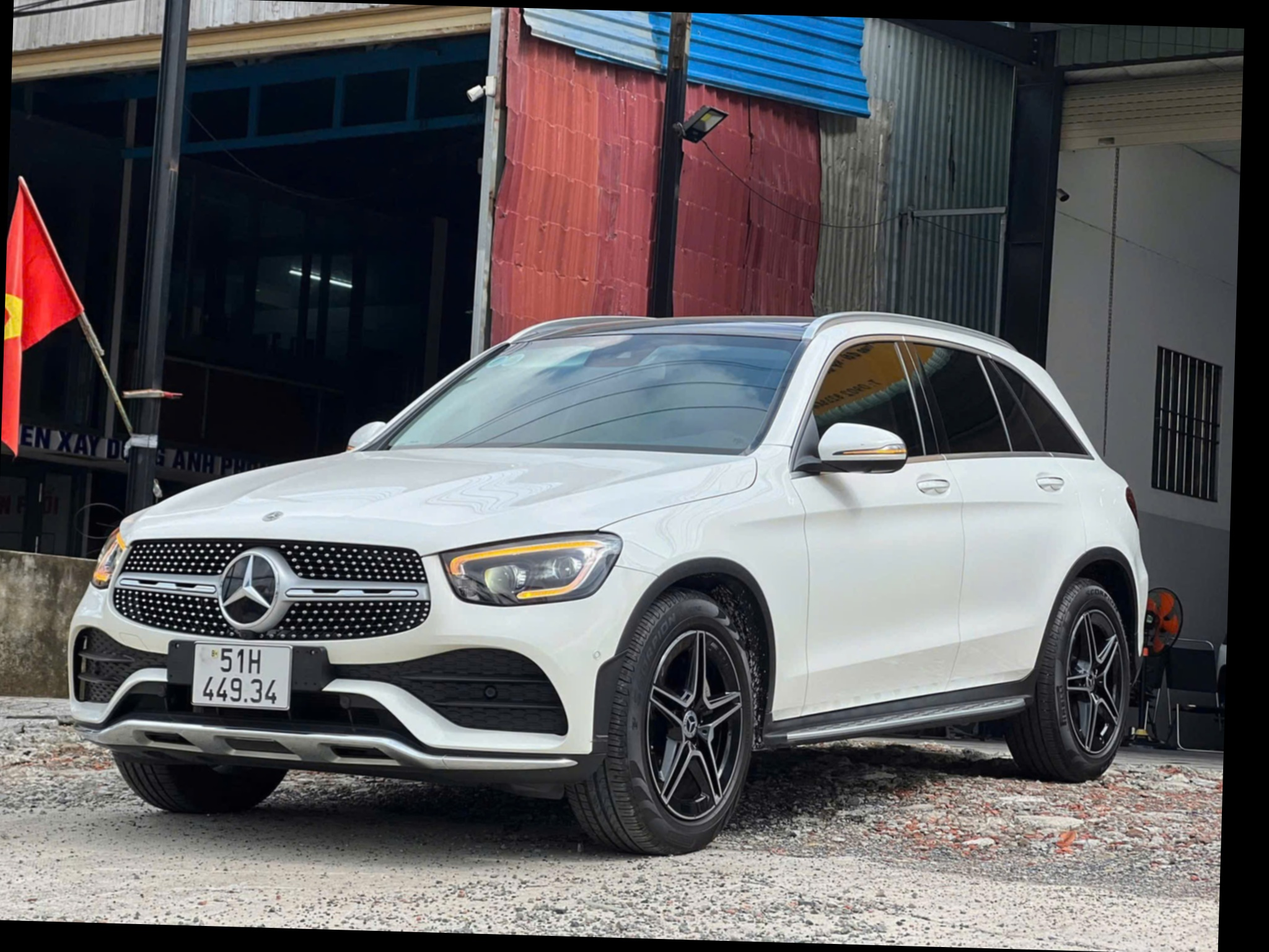Bien-so: (218, 659, 322, 723)
